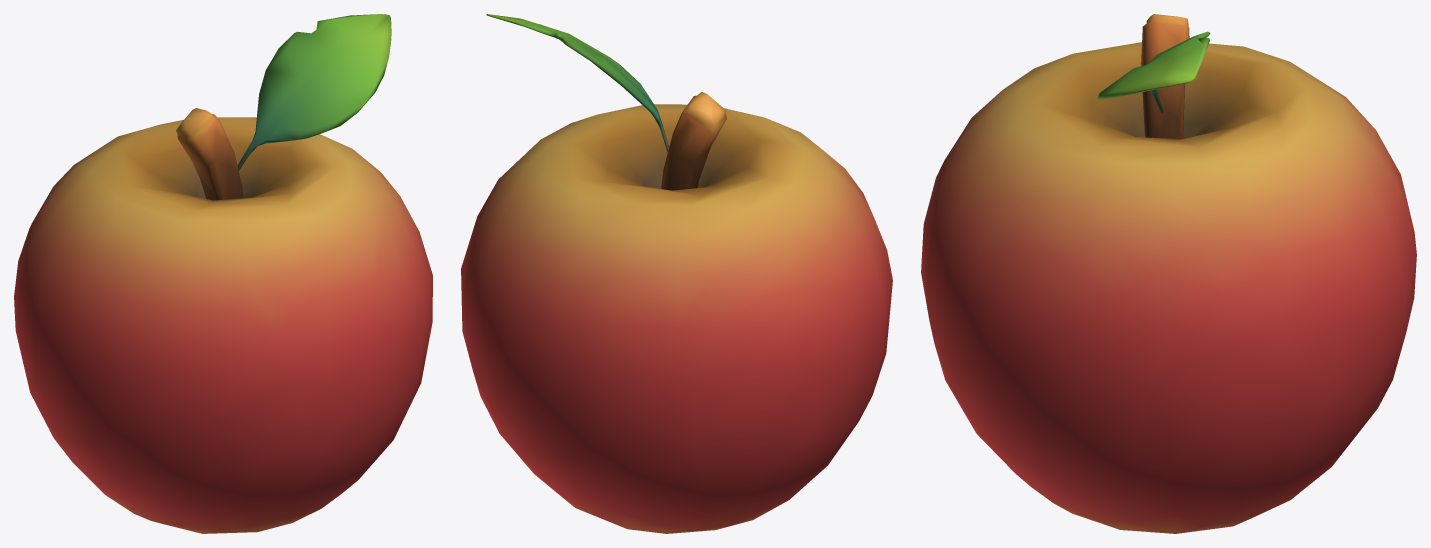
Rendered from Apple.glb.
3 views of the same model, side by side, from view 1: azimuth 30°, elevation 25°; view 2: azimuth 150°, elevation 25°; view 3: azimuth 270°, elevation 25° (orthographic). The views are drawn at different scales.
Parts seen in each view (by area): view 1: Apple_; view 2: Apple_; view 3: Apple_.
Boxes of the visible parts, left/top/right/bottom form: Apple_: left=14, top=14, right=432, bottom=533; Apple_: left=461, top=14, right=892, bottom=533; Apple_: left=921, top=14, right=1416, bottom=533.
Bounding box in the file's own units: 0.0989 × 0.1139 × 0.0989.
Materials: 1 (1 with a texture image).
